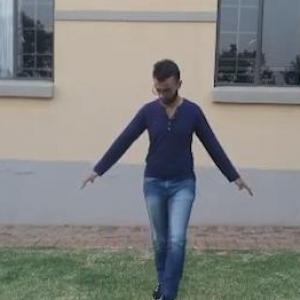land: (69, 38, 246, 299)
